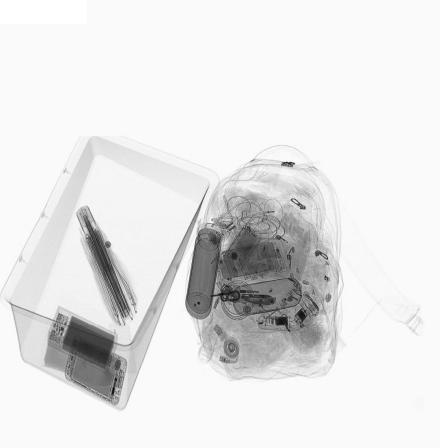Knife: (234, 293, 278, 305)
